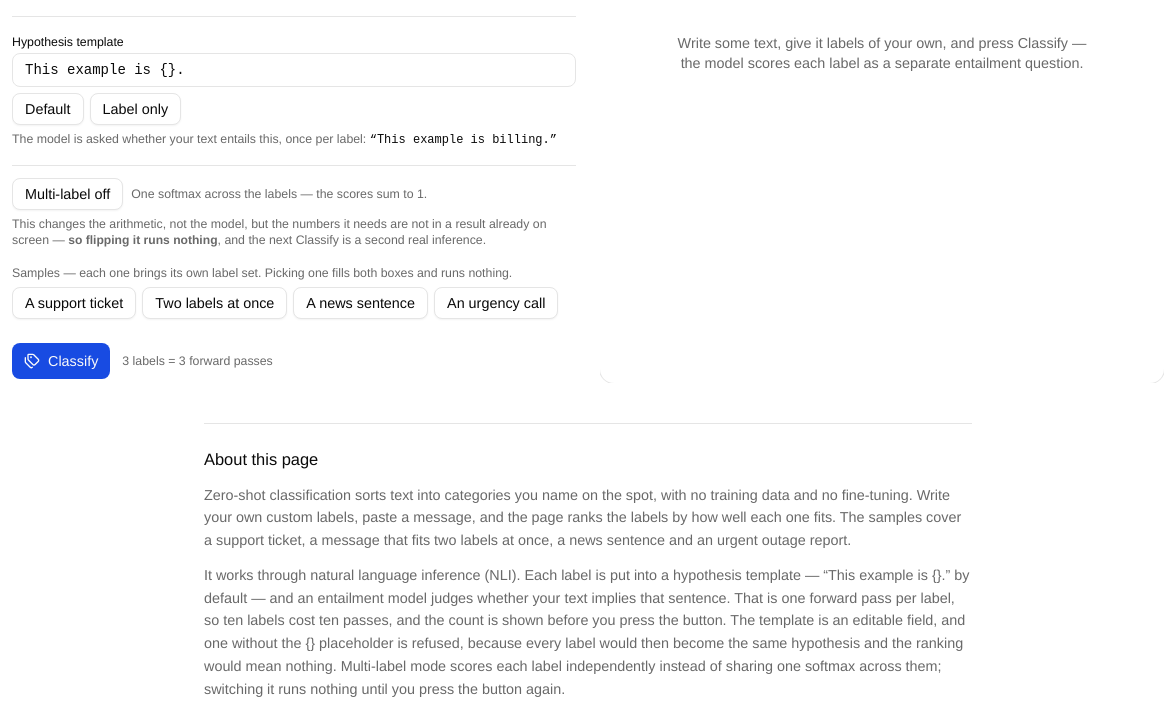
Test: ZeroShotClassificationPage › says which normalisation produced the scores it is showing
(page scrolled)
Click the button "Classify": {"x": 61, "y": 360} [12,342,110,378]
(page scrolled)
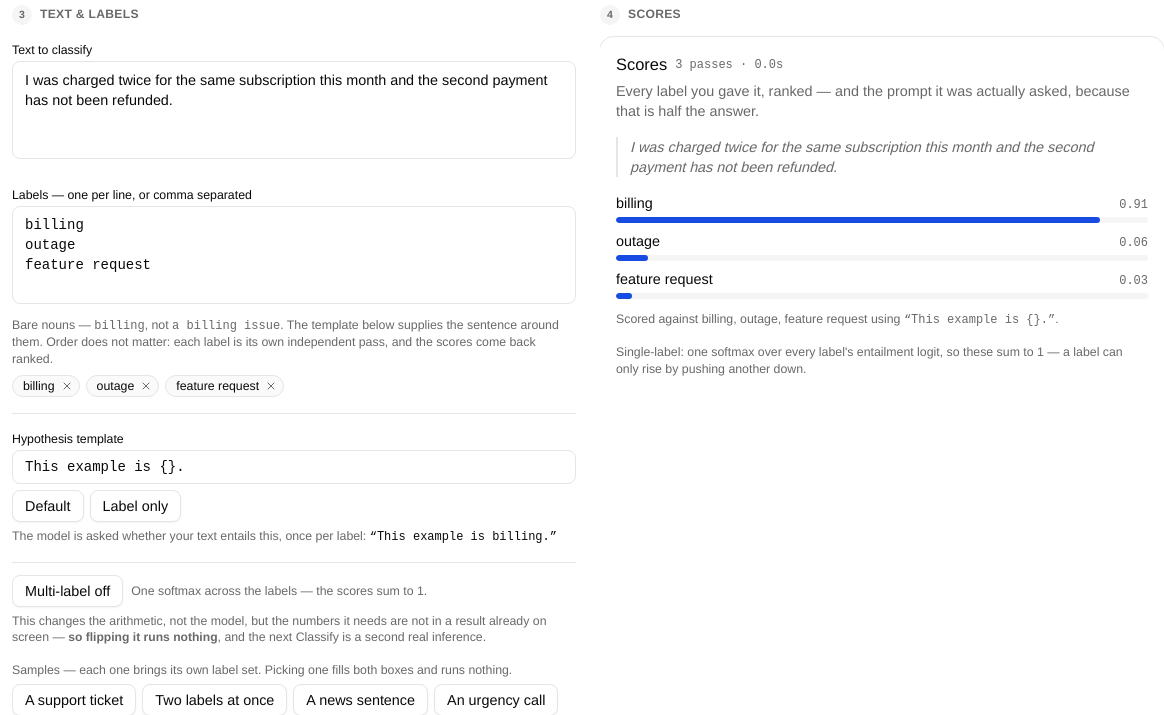
Check: the text with test id "scoring-note" is shown, box [616,344,1148,377]
